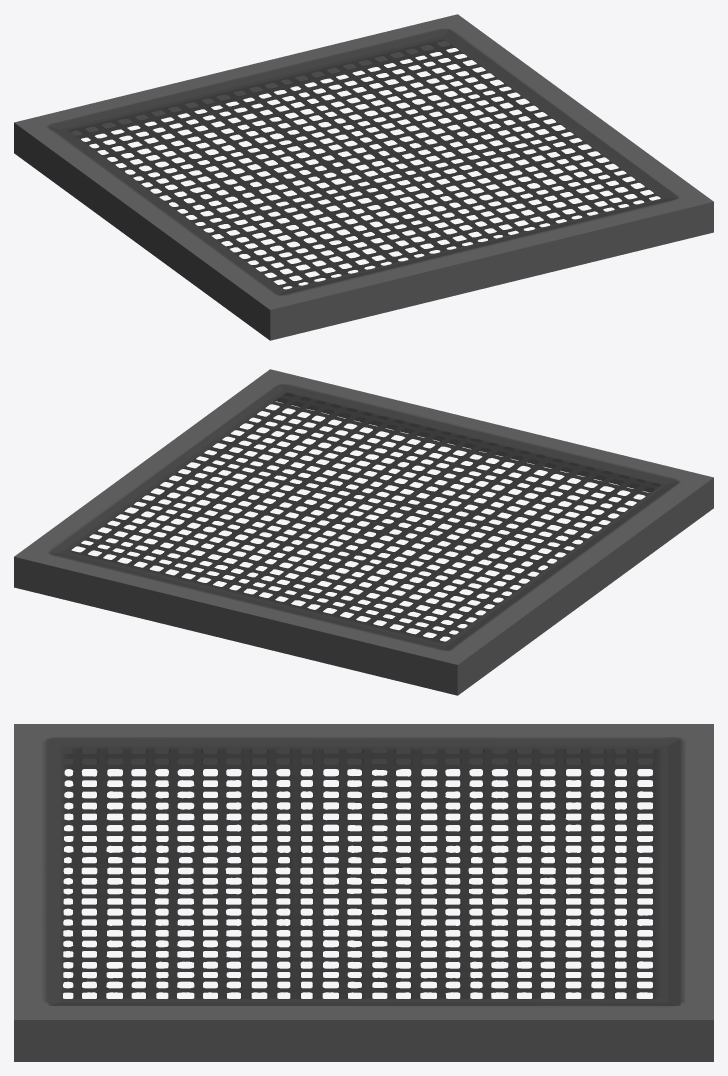
The model's file is Plataforma Metal.fbx.
3 renders of one model, top to bottom at view 1: azimuth 30°, elevation 25°; view 2: azimuth 150°, elevation 25°; view 3: azimuth 270°, elevation 25°, orthographic. The views are drawn at different scales.
Parts seen in each view (by area): view 1: Plane; view 2: Plane; view 3: Plane.
Part boxes in pixels (box(x1,y1,x2,y2)): Plane: box(14, 14, 713, 340); Plane: box(14, 369, 713, 695); Plane: box(14, 724, 713, 1061).
Bounding box in the file's own units: 996 × 65.96 × 996.
